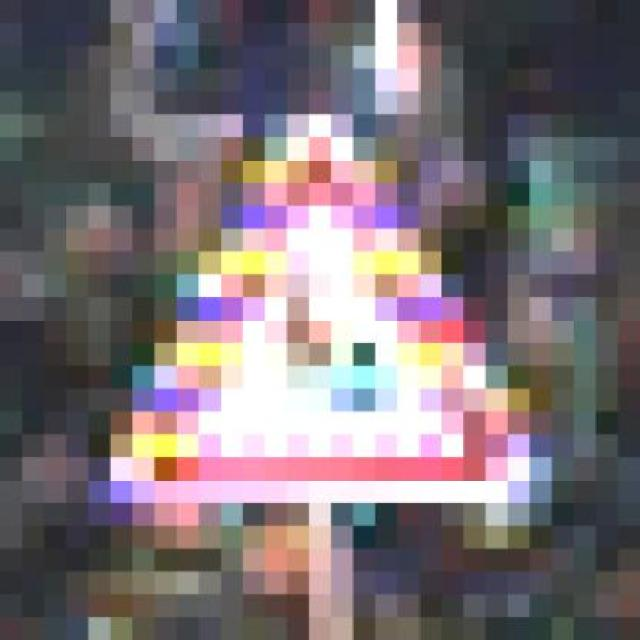Left Zig Zag Traffic: (110, 69, 552, 548)
